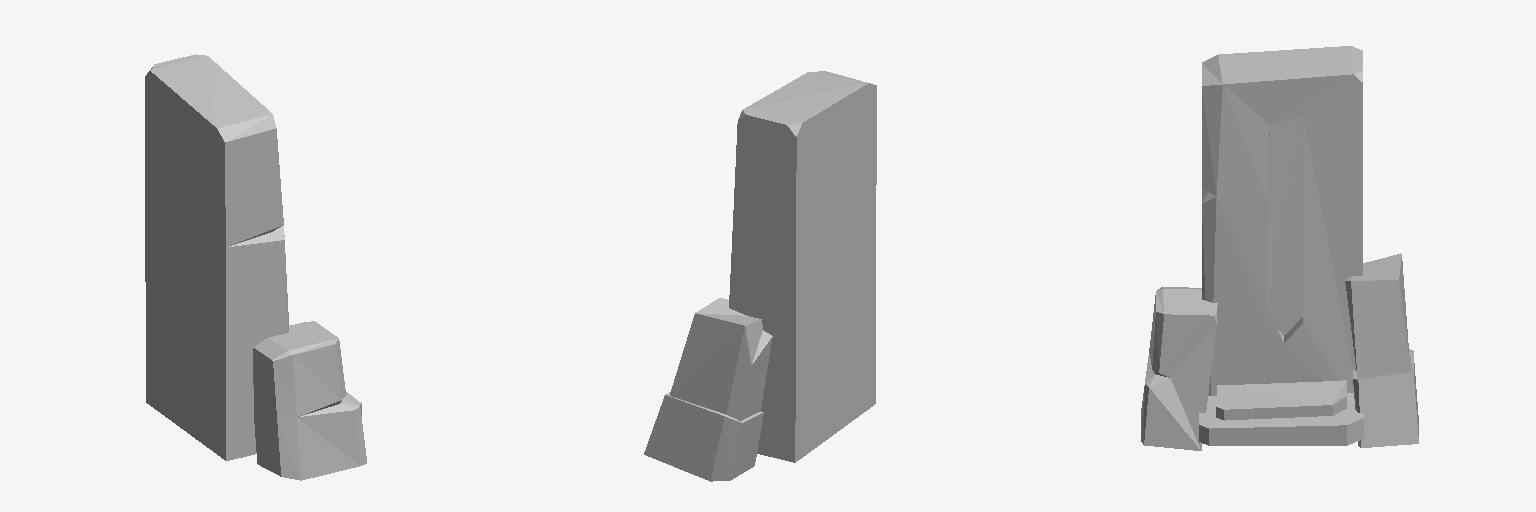
The model's file is landmark--throne__02.obj.
3 renders of one model, left to right at view 1: azimuth 30°, elevation 25°; view 2: azimuth 150°, elevation 25°; view 3: azimuth 270°, elevation 25°, orthographic.
Visible parts, largest first — view 1: throne02_Cube.006; view 2: throne02_Cube.006; view 3: throne02_Cube.006.
Part boxes in pixels (bbox=[...]): throne02_Cube.006: bbox=[145, 54, 366, 480]; throne02_Cube.006: bbox=[644, 71, 876, 481]; throne02_Cube.006: bbox=[1141, 46, 1418, 450].
Bounding box in the file's own units: 2.01 × 4.83 × 3.46.